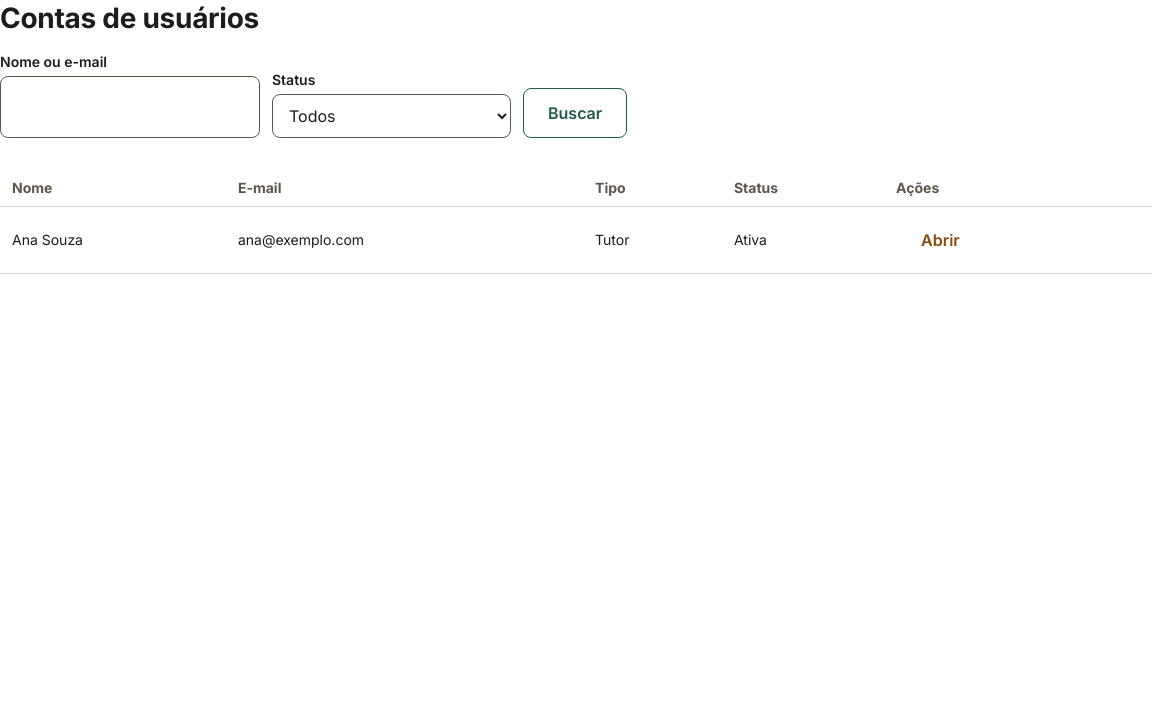
Gestão de contas na administração (UC-28) › CT-28-02: deve avisar a falha e manter o status quando a auditoria não responde
The width and height of the screenshot is (1152, 708).
Click the button with aria-label "Abrir a conta de Ana Souza" at (940, 240), box [896,215,985,265]
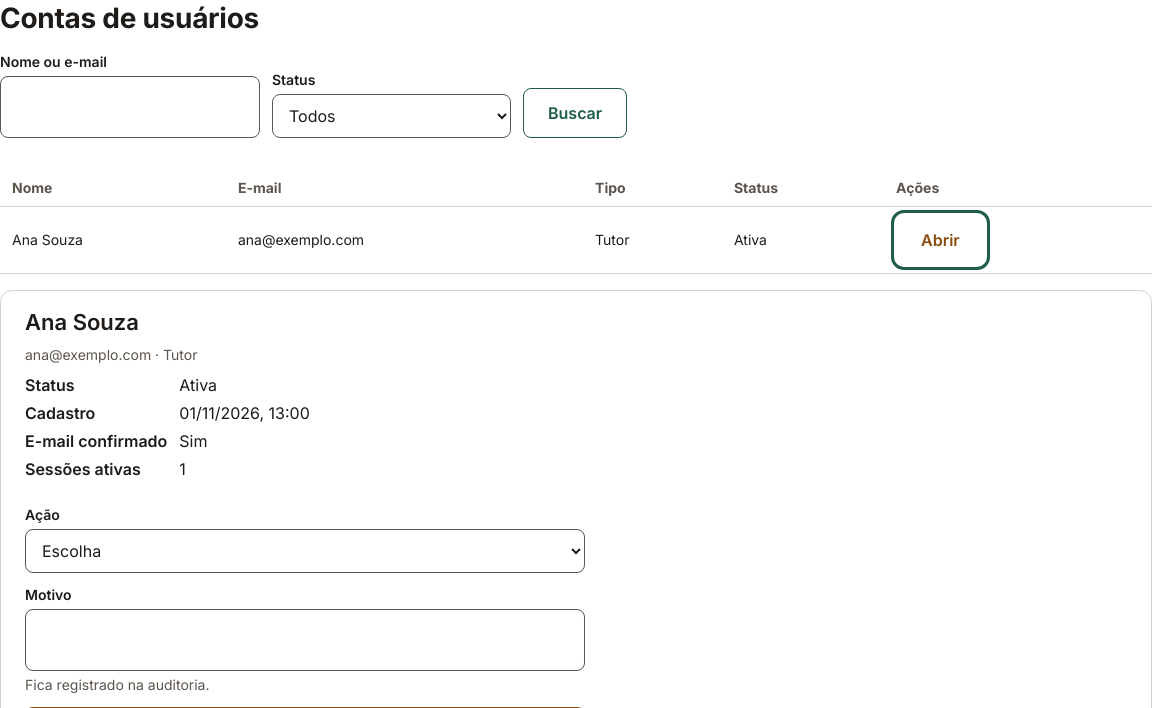
Check: the text "Sessões ativas" is shown, box [25,459,141,479]
Select "Bloquear" in the dropdown labelled "Ação" at (305, 551), box [25,529,585,573]
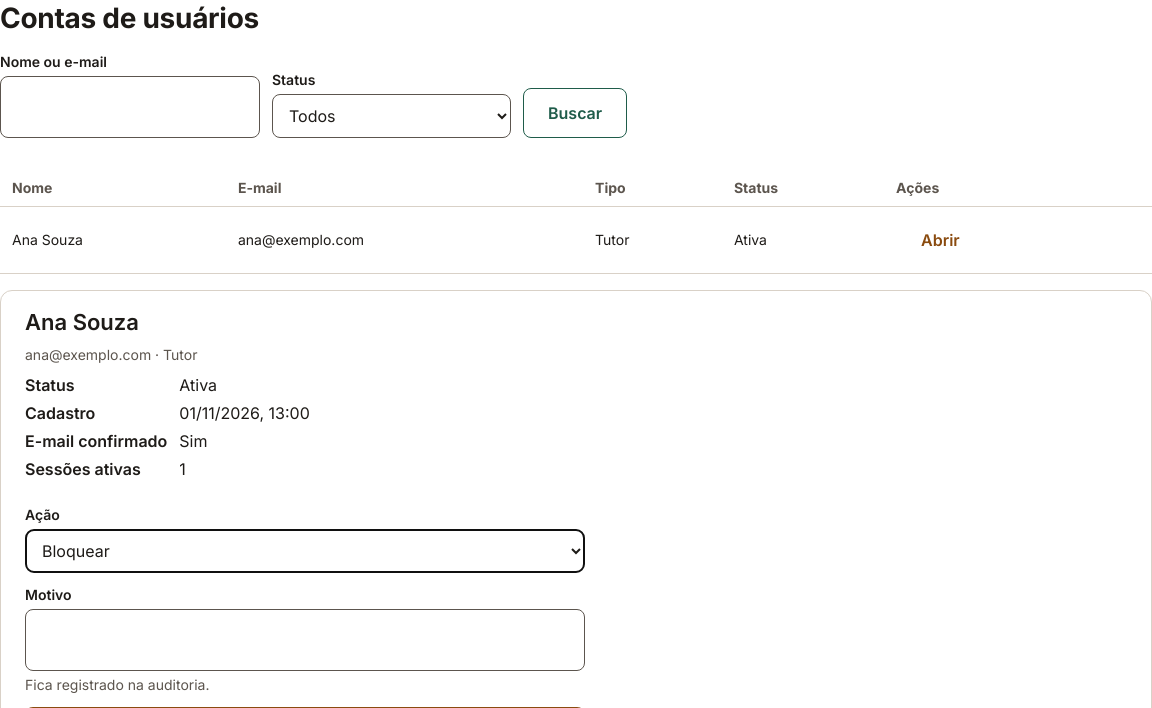
Type "Fraude no pagamento" into the field labelled "Motivo" at (305, 640), box [25,609,585,671]
(page scrolled)
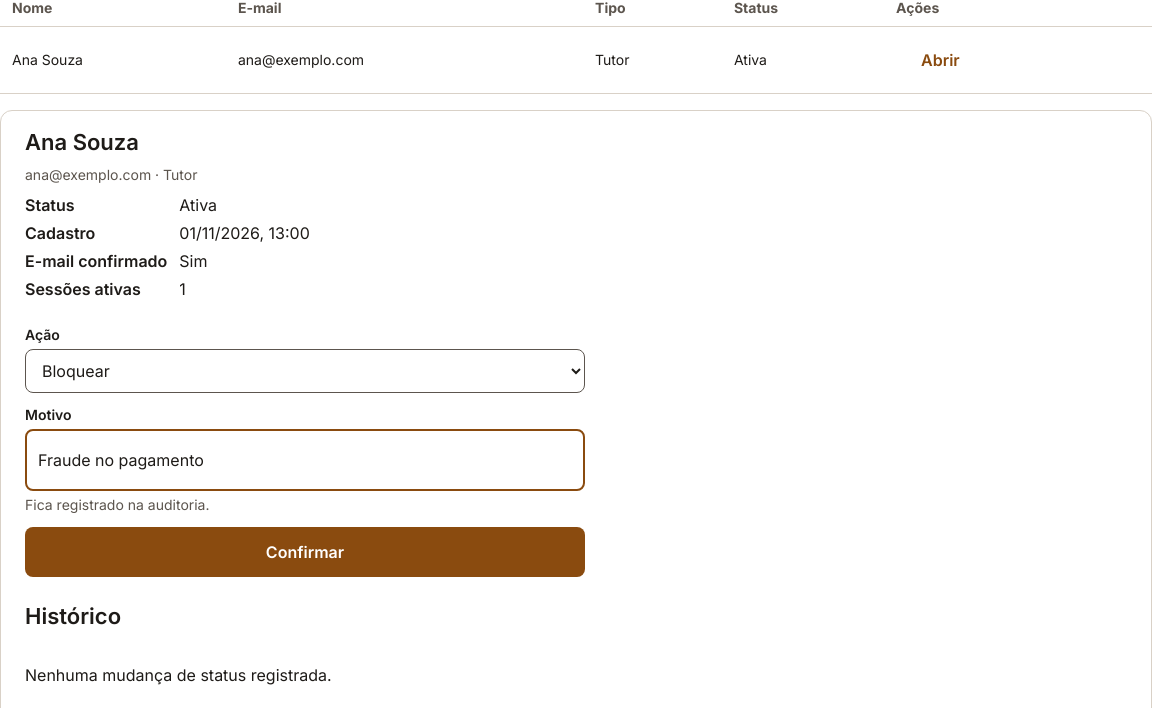
Click the button "Confirmar" at (305, 552), box [25,527,585,577]
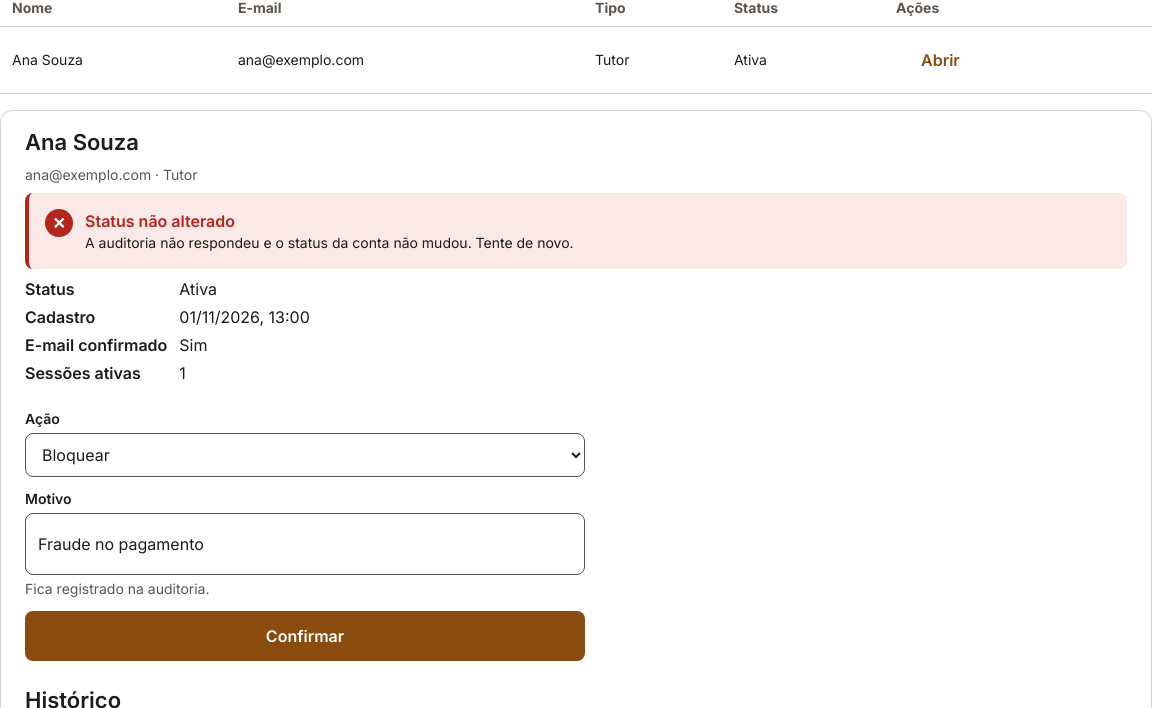
Check: the text "Status não alterado" is shown, box [84,210,235,231]
Check: the text "status da conta não mudou" is shown, box [85,234,574,251]
